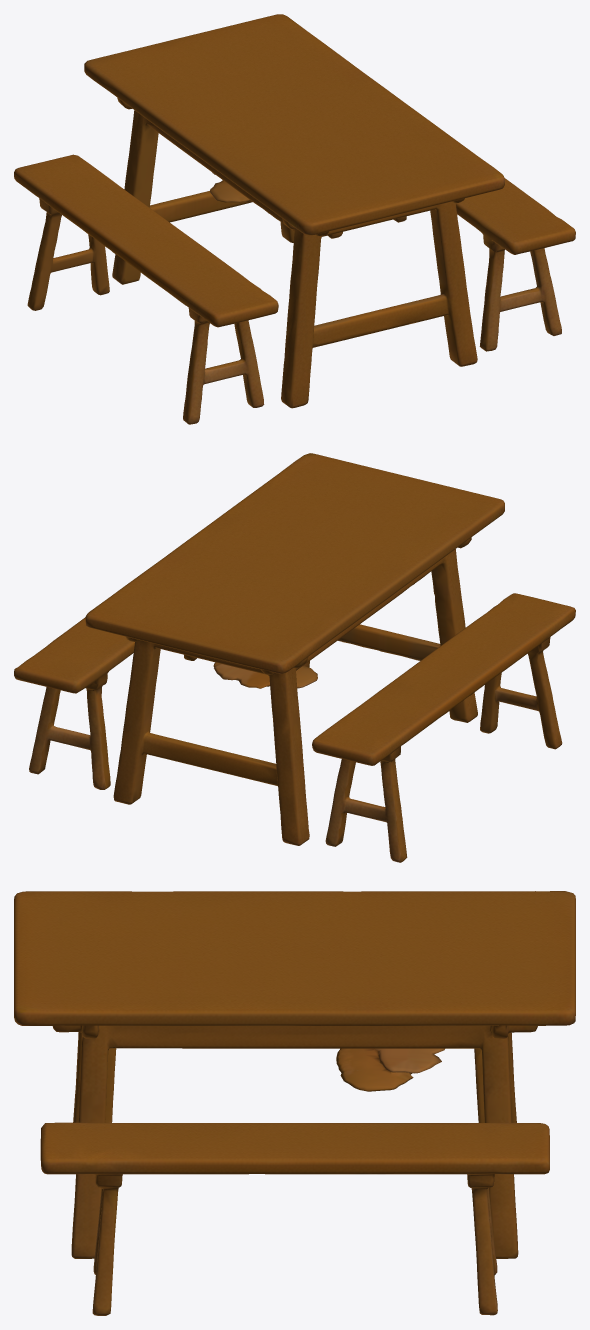
The model's file is mesa_truco.glb.
The picture shows the model from 3 angles, top to bottom: view 1: azimuth 30°, elevation 25°; view 2: azimuth 150°, elevation 25°; view 3: azimuth 270°, elevation 25°; orthographic projection. The views are drawn at different scales.
Visible parts, largest first — view 1: temp_mesh.ply; view 2: temp_mesh.ply; view 3: temp_mesh.ply.
Part boxes in pixels (left/top/right/bottom): temp_mesh.ply: left=14, top=14, right=575, bottom=424; temp_mesh.ply: left=14, top=453, right=575, bottom=862; temp_mesh.ply: left=14, top=891, right=575, bottom=1315.
Bounding box in the file's own units: 1.63 × 0.8434 × 1.7.
Materials: 1 (1 with a texture image).
